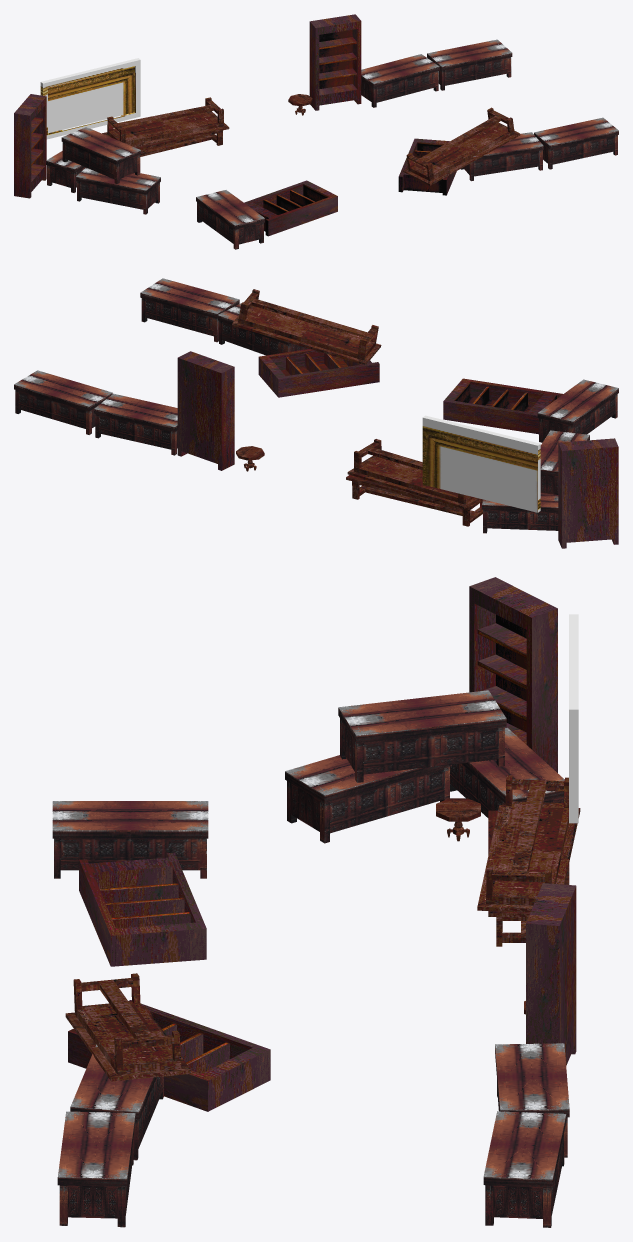
The model's file is ROOM1_Objects.fbx.
3 views of the same model, one above another, from view 1: azimuth 30°, elevation 25°; view 2: azimuth 150°, elevation 25°; view 3: azimuth 270°, elevation 25° (orthographic). The views are drawn at different scales.
Visible parts, largest first — view 1: painting_frame, bookshelf.001, table.002, table.001, bookshelf, bookshelf.002, cabinet.004, cabinet.006, cabinet.008, cabinet.005, cabinet.010, cabinet.003 (+4 smaller); view 2: painting_frame, bookshelf, bookshelf.001, table.002, bookshelf.002, bookshelf.003, cabinet.005, cabinet.008, cabinet.006, cabinet.010, table.001, cabinet.002 (+4 smaller); view 3: bookshelf, cabinet.004, bookshelf.002, cabinet.010, table.001, cabinet.003, bookshelf.001, cabinet.005, table.002, cabinet.008, bookshelf.003, cabinet.006 (+5 smaller).
Part boxes in pixels (box(x1,y1,x2,y2)): painting_frame: box(40, 58, 140, 139); bookshelf.001: box(309, 14, 361, 110); table.002: box(403, 107, 520, 185); table.001: box(102, 97, 229, 147); bookshelf: box(14, 94, 46, 198); bookshelf.002: box(244, 180, 337, 236); cabinet.004: box(61, 127, 141, 183); cabinet.006: box(361, 54, 439, 107); cabinet.008: box(534, 117, 618, 169); cabinet.005: box(427, 39, 512, 90); cabinet.010: box(196, 190, 264, 249); cabinet.003: box(76, 167, 160, 214); painting_frame: box(422, 415, 540, 512); bookshelf: box(558, 438, 618, 548); bookshelf.001: box(177, 351, 234, 470); table.002: box(232, 289, 381, 364); bookshelf.002: box(443, 378, 562, 434); bookshelf.003: box(258, 349, 379, 397); cabinet.005: box(14, 370, 112, 434); cabinet.008: box(140, 278, 239, 342); cabinet.006: box(94, 393, 177, 455); cabinet.010: box(537, 379, 618, 442); table.001: box(347, 439, 480, 508); cabinet.002: box(482, 493, 558, 533); bookshelf: box(469, 577, 557, 772); cabinet.004: box(338, 690, 506, 782); bookshelf.002: box(79, 852, 206, 966); cabinet.010: box(52, 801, 208, 878); table.001: box(477, 775, 580, 912); cabinet.003: box(285, 755, 451, 843); bookshelf.001: box(526, 883, 576, 1065); cabinet.005: box(483, 1111, 566, 1227); table.002: box(65, 973, 190, 1081); cabinet.008: box(57, 1111, 135, 1227); bookshelf.003: box(68, 1000, 270, 1111); cabinet.006: box(495, 1043, 569, 1157).
Size of the model in its own units: 3540 by 599 by 1624.
